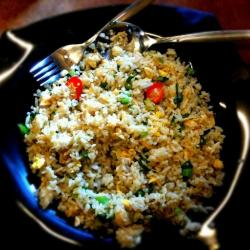rice: (27, 50, 222, 227)
